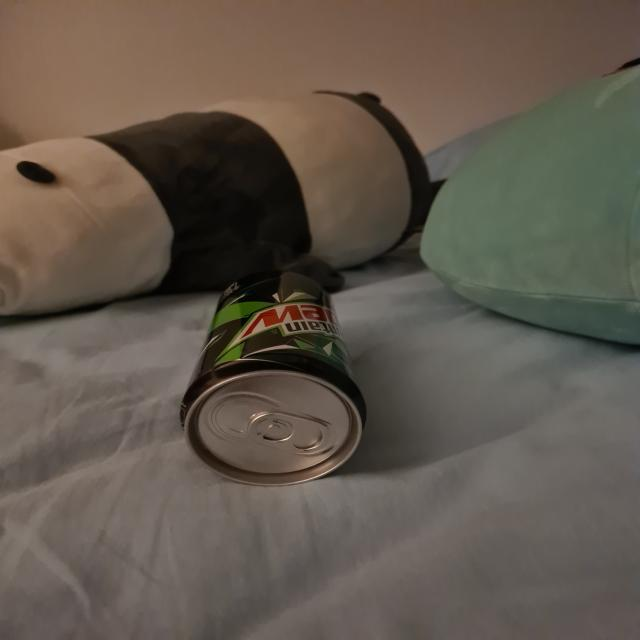can: (181, 268, 366, 489)
